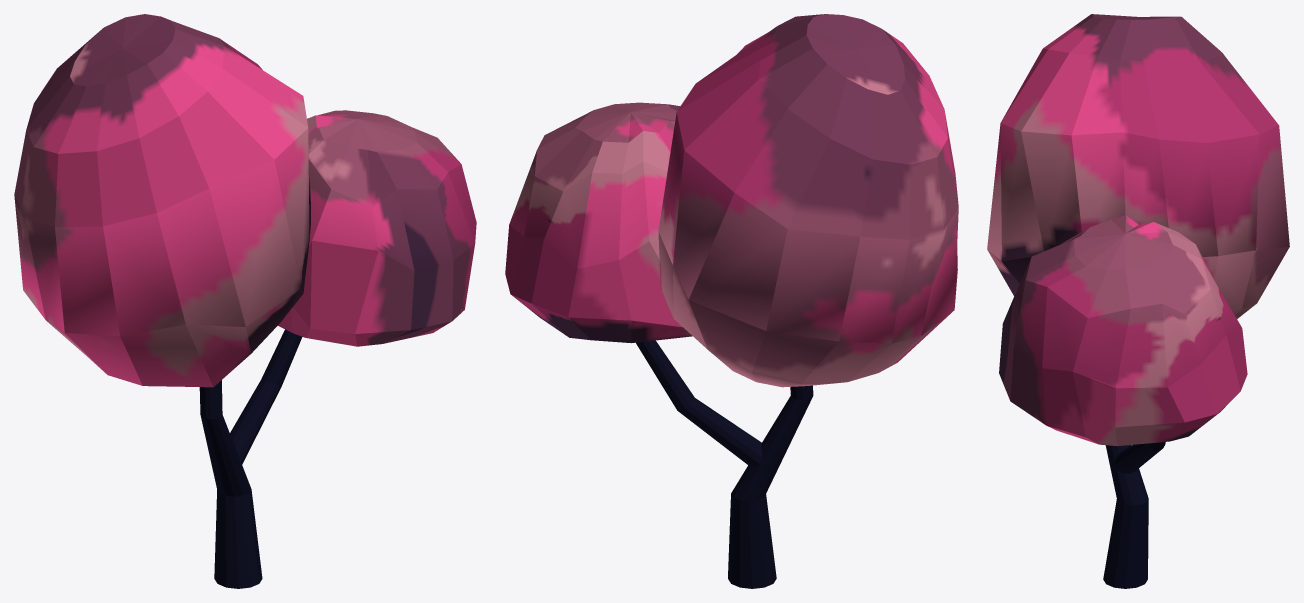
File: tree_1.fbx
3 renders of one model, left to right at view 1: azimuth 30°, elevation 25°; view 2: azimuth 150°, elevation 25°; view 3: azimuth 270°, elevation 25°, orthographic. The views are drawn at different scales.
Parts seen in each view (by area): view 1: tree_big.001; view 2: tree_big.001; view 3: tree_big.001.
Boxes of the visible parts, x1=… form: tree_big.001: x1=14, y1=14, x2=476, y2=588; tree_big.001: x1=505, y1=14, x2=958, y2=588; tree_big.001: x1=987, y1=14, x2=1289, y2=588.
Size of the model in its own units: 451 by 584 by 302.
